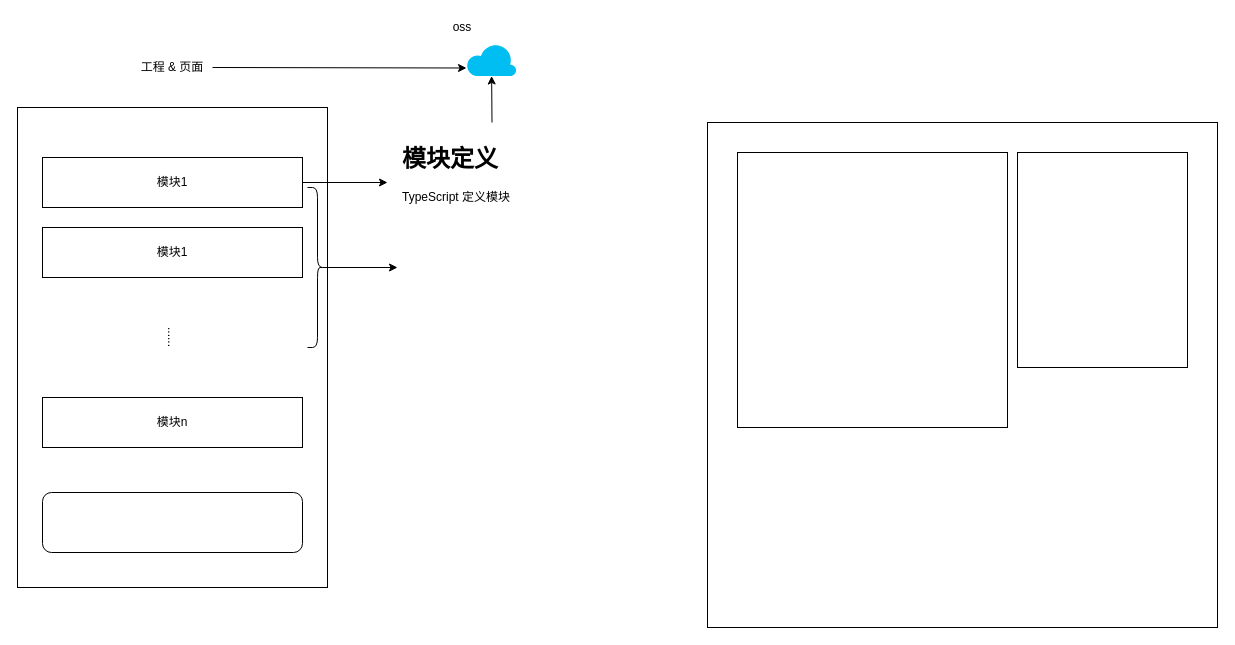
Some shapes in this 1235 by 645 pixel diagram are drawn without their labels. The centre of each missing label's shape, as x and y in pixels:
Engine: [172,522]
Iframe 嵌入工程 渲染每个 Schema 页面: [872,290]
